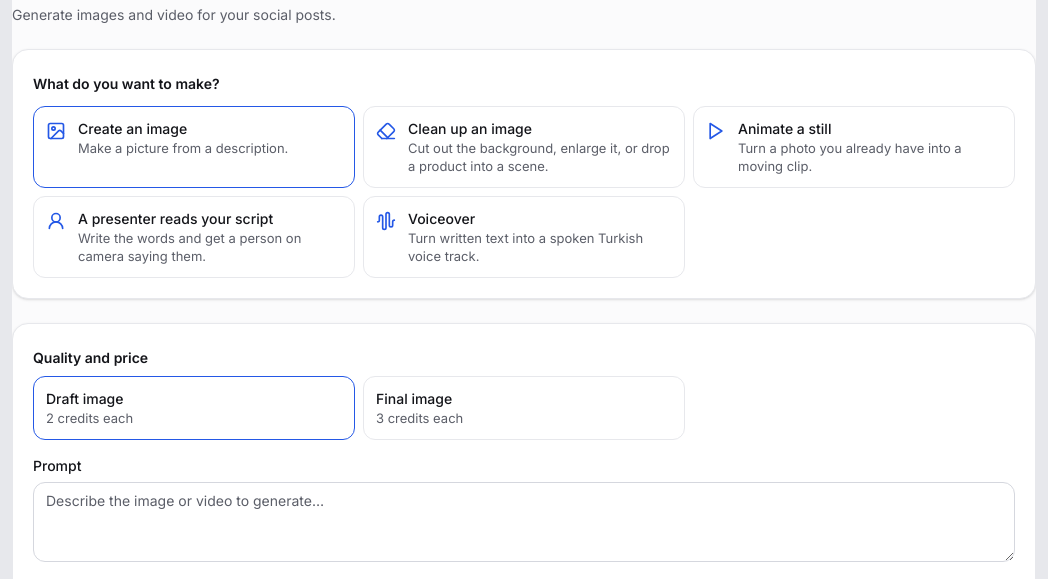
it: AiStudioPage — technique-first, contract-driven panel › re-prices when the duration changes, and offers only the lengths the model will produce
Click the button "Animate a still": (854, 147) [693, 106, 1015, 188]
(page scrolled)
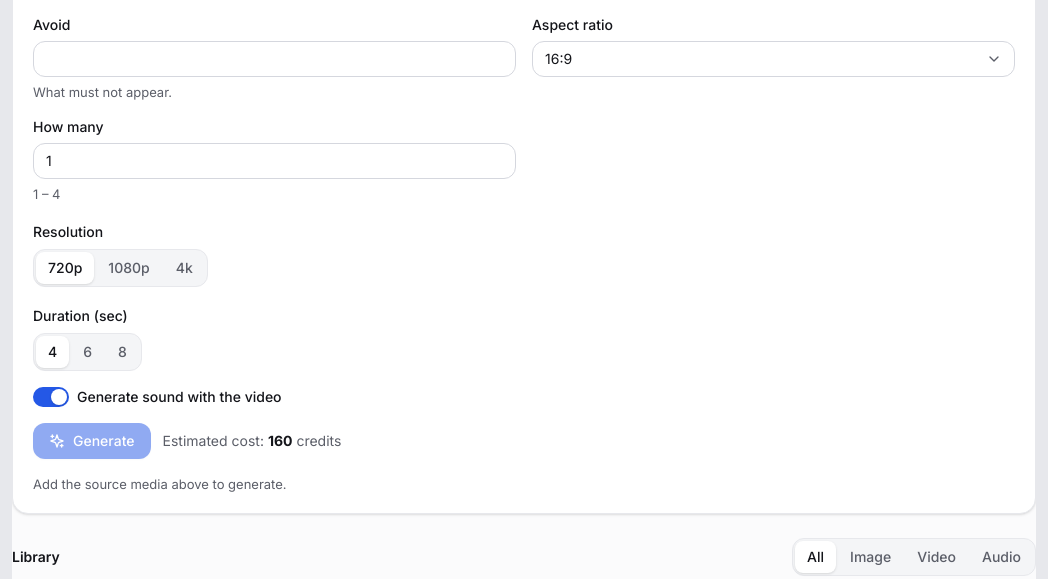
Expected: the buttons read "4", "6", "8", in this order
Expected: the text with test id "credit-estimate" reads "160", [268, 432, 292, 449]
Click the button "8": (122, 352) [106, 336, 139, 368]
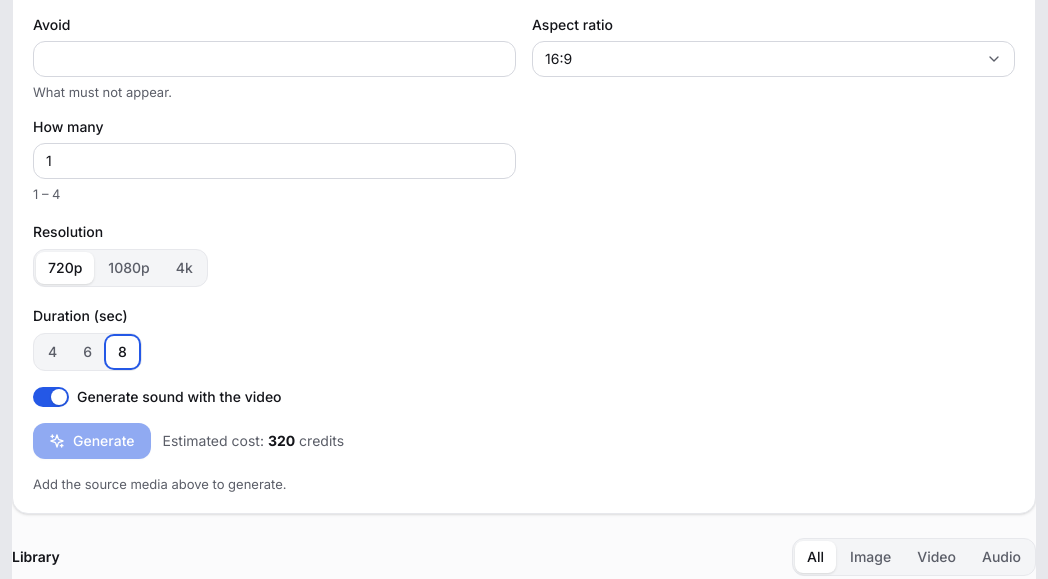
Expected: the text with test id "credit-estimate" reads "320", [268, 432, 295, 449]
